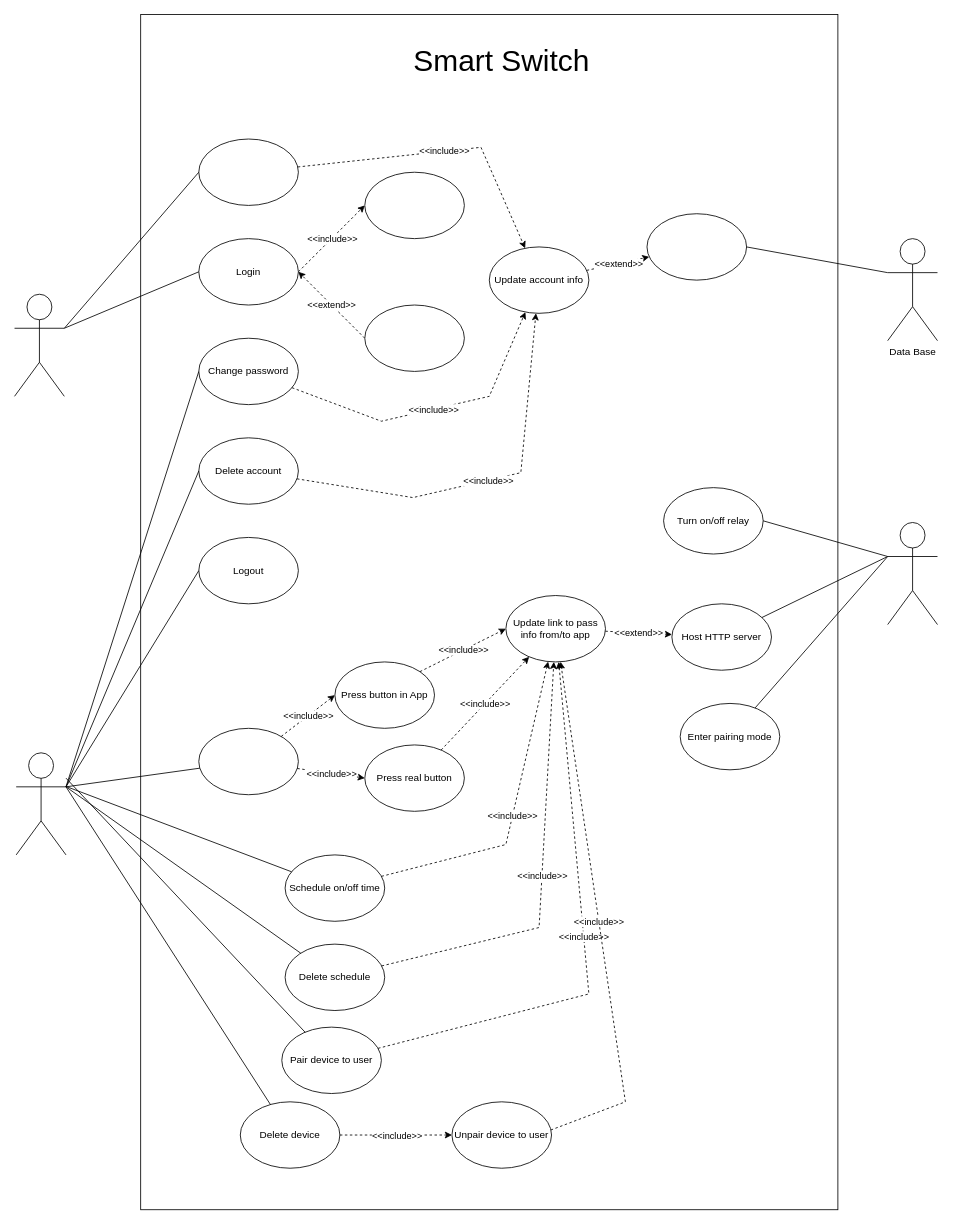
Image size: 959x1224. Some labels were removed from this diagram. The centre of each missing label's shape, as x and y in pixels:
Create account: (x=248, y=171)
Display login error: (x=414, y=337)
Host account info: (x=696, y=246)
Microcontroller: (x=912, y=573)
Turn on/off switch: (x=248, y=761)
User: (x=40, y=803)
Verify password: (x=414, y=205)
Visitor: (x=39, y=344)
